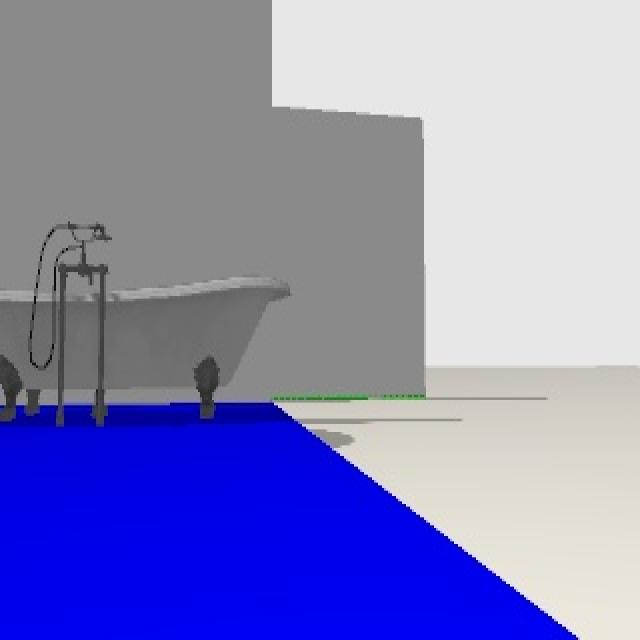bathtub: (0, 224, 292, 432)
